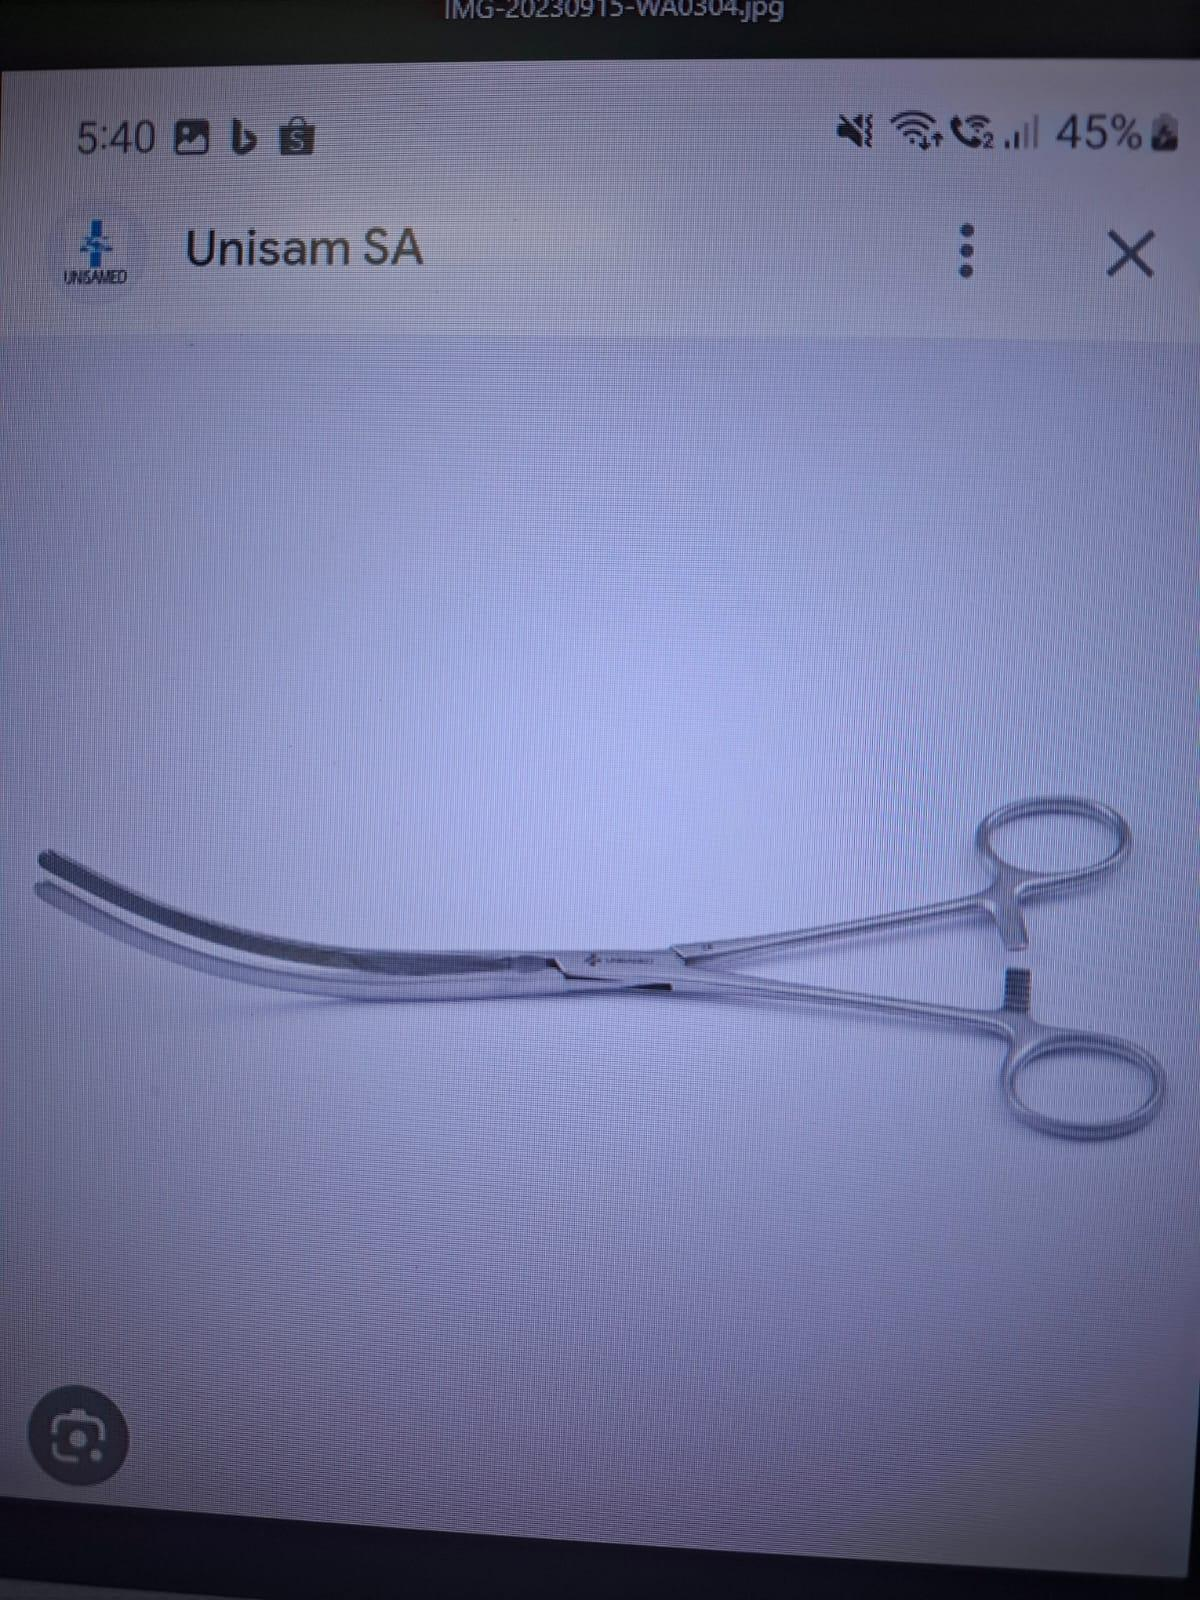Doyel Instestinal Forceps: (28, 755, 1180, 1186)
